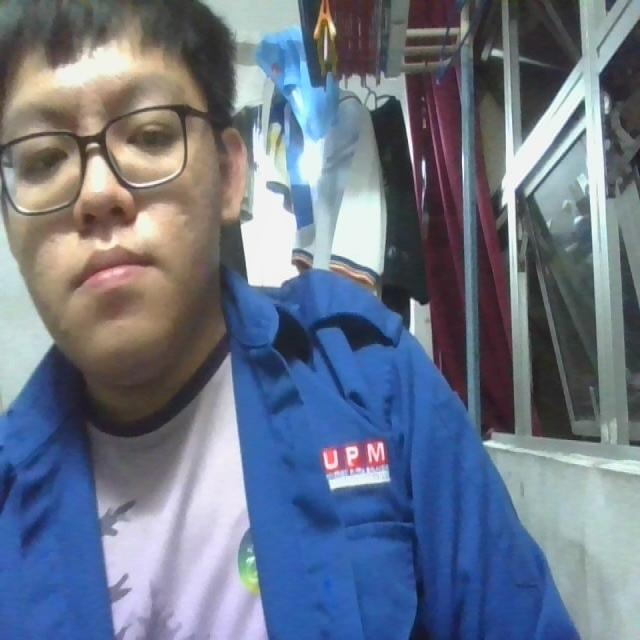person_with_labcoat: (0, 0, 599, 639)
